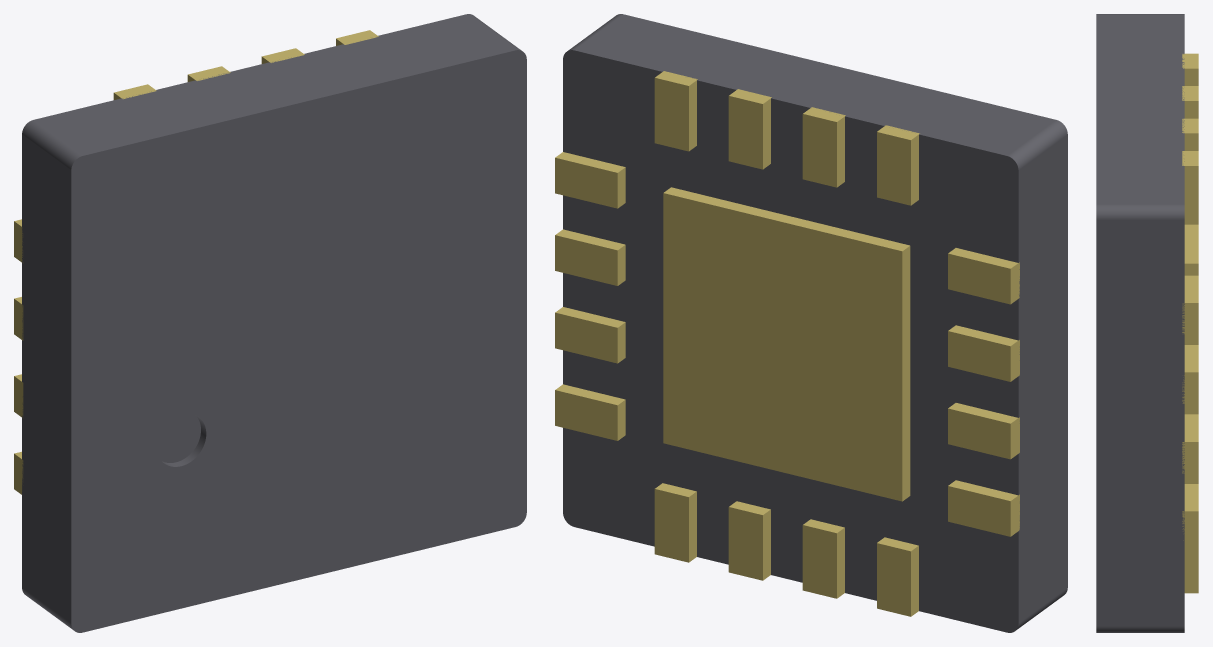
3 views of the same model, side by side, from view 1: azimuth 30°, elevation 25°; view 2: azimuth 150°, elevation 25°; view 3: azimuth 270°, elevation 25° (orthographic). The views are drawn at different scales.
Parts seen in each view (by area): view 1: extra, pins; view 2: extra, pins; view 3: extra, pins.
Part boxes in pixels (<box>): extra: <box>22,14,526,632</box>; pins: <box>14,30,378,494</box>; extra: <box>563,14,1067,632</box>; pins: <box>555,71,1019,616</box>; extra: <box>1096,14,1184,632</box>; pins: <box>1182,53,1198,593</box>.
Size of the model in its own units: 4 by 4 by 0.87.
